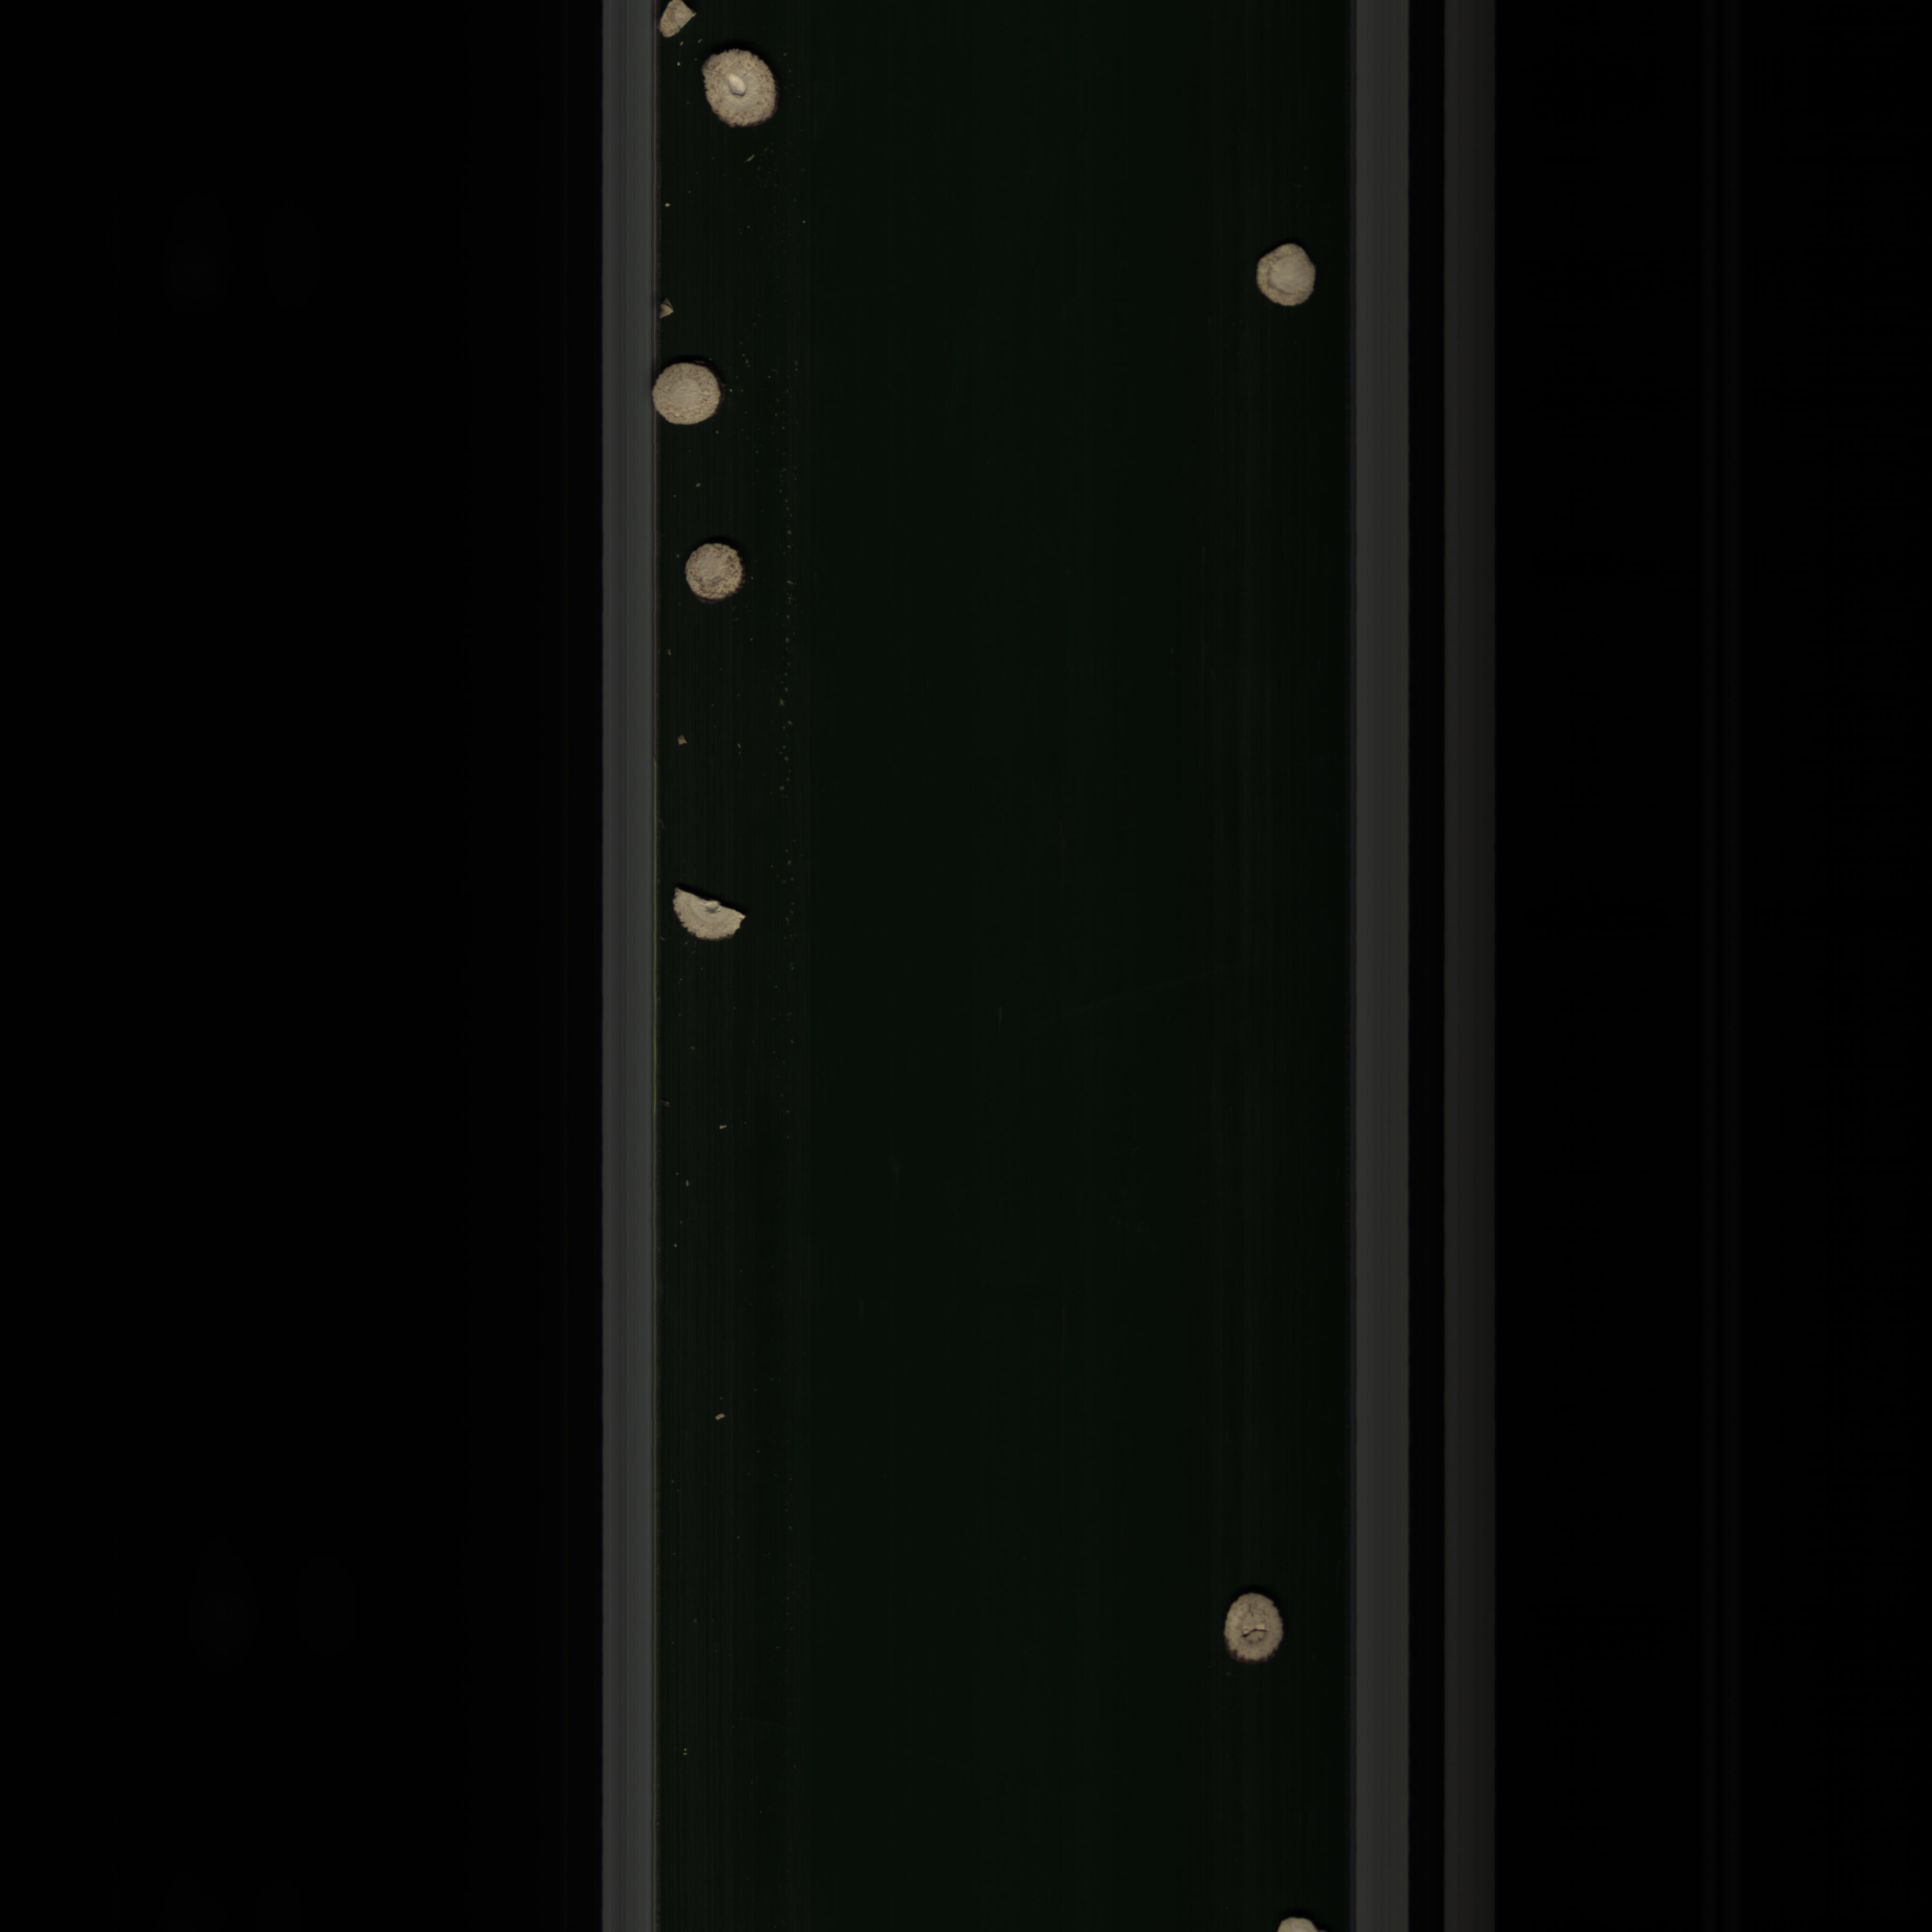debris: (663, 879, 757, 954), (658, 2, 699, 41)
hole: (697, 51, 780, 131)
